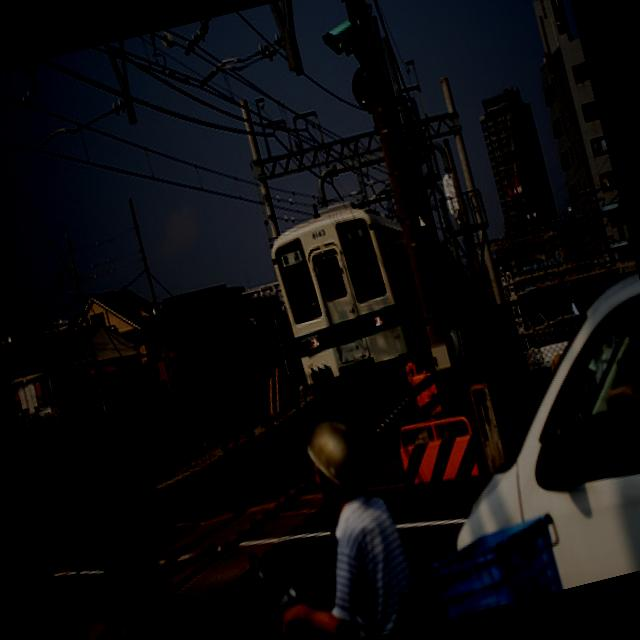Vehicle: (392, 246, 640, 612), (397, 254, 640, 612), (191, 529, 347, 640), (65, 615, 108, 640)
